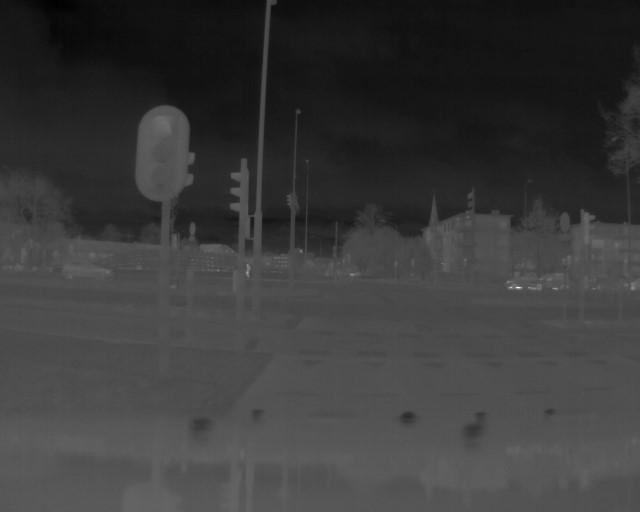car: (61, 257, 117, 282), (594, 272, 635, 298), (505, 269, 546, 291)
person: (242, 261, 251, 284)
